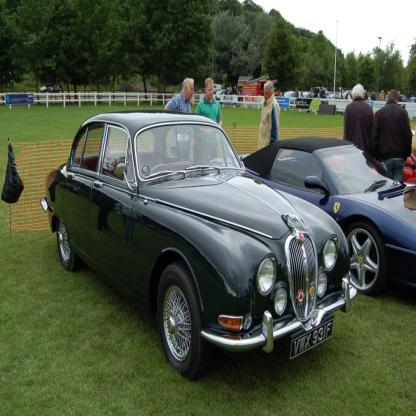Car: (41, 110, 358, 382), (241, 135, 416, 295), (282, 87, 355, 104), (401, 96, 409, 104), (410, 98, 416, 104)
